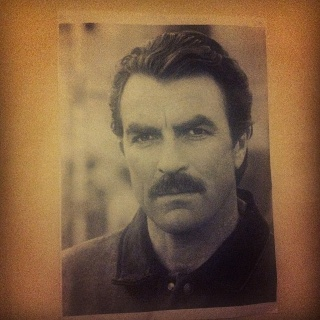without_mask: (108, 29, 257, 234)
